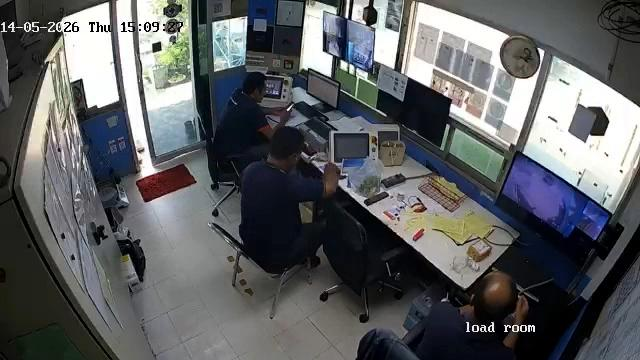Head: (472, 271, 519, 320), (266, 124, 305, 166), (242, 71, 266, 101)
People: (242, 122, 338, 251), (426, 271, 530, 360), (218, 69, 287, 135)
Phone: (284, 101, 295, 111)
